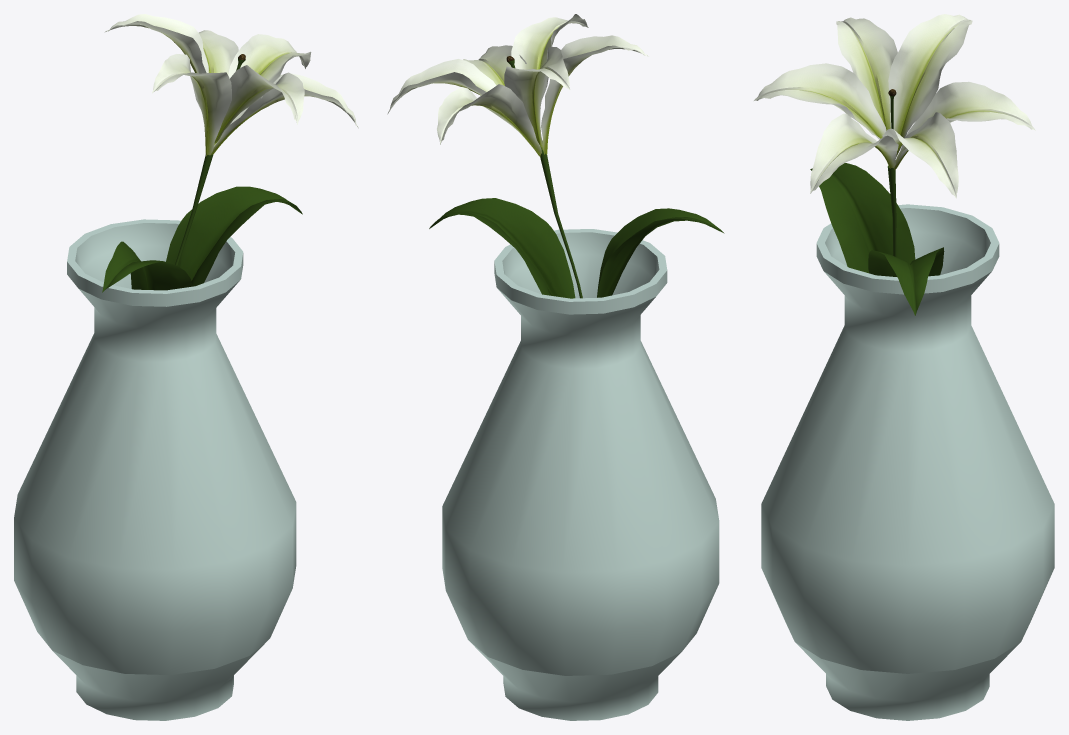
Rendered from lily.fbx.
The picture shows the model from 3 angles, left to right: view 1: azimuth 30°, elevation 25°; view 2: azimuth 150°, elevation 25°; view 3: azimuth 270°, elevation 25°; orthographic projection. The views are drawn at different scales.
Parts seen in each view (by area): view 1: pCylinder12, pPlane68; view 2: pCylinder12, pPlane68; view 3: pCylinder12, pPlane68.
Part boxes in pixels (x1=…): pCylinder12: x1=14, y1=219, x2=296, y2=720; pPlane68: x1=102, y1=14, x2=358, y2=292; pCylinder12: x1=442, y1=229, x2=719, y2=720; pPlane68: x1=387, y1=14, x2=724, y2=298; pCylinder12: x1=761, y1=204, x2=1054, y2=720; pPlane68: x1=754, y1=14, x2=1035, y2=315.
Bounding box in the file's own units: 0.4099 × 0.8622 × 0.3495.
